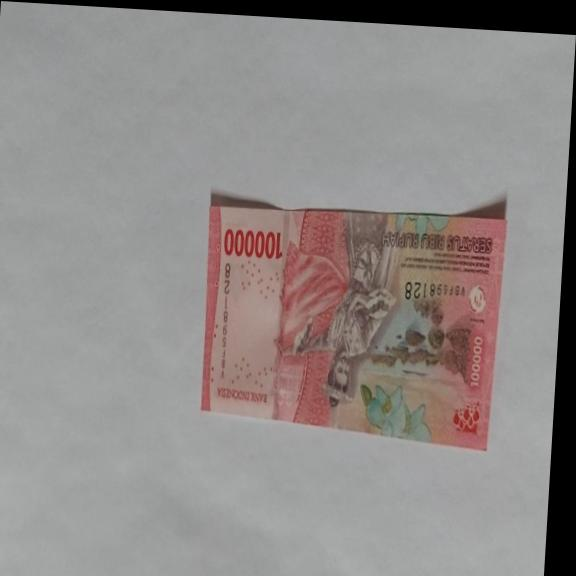Kertas: (195, 196, 507, 452), (221, 226, 283, 263)
